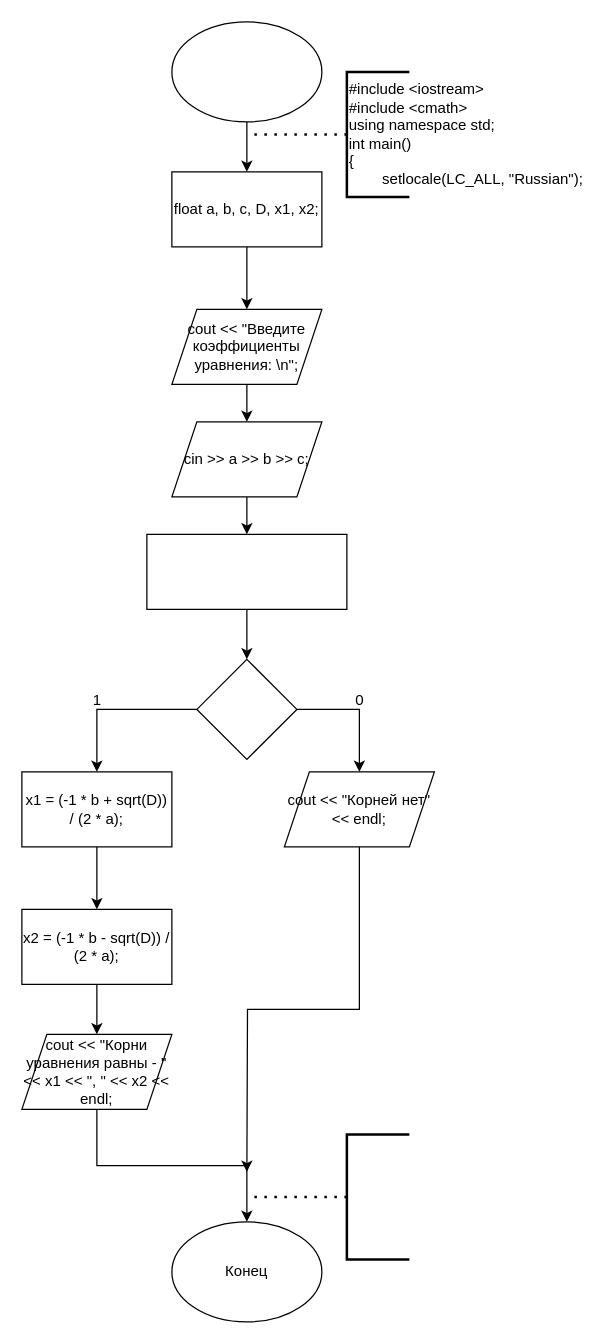
This 605x1344 diagram has some shape labels left out. Here are the shapes that lost their labels. From the top down, the box of each, then its label:
(171, 21, 322, 122): Начало
(146, 533, 347, 609): D = pow(b, 2) - 4 * a * c;
(196, 658, 297, 759): if (D >= 0)
(345, 1132, 410, 1260): return 0; }
